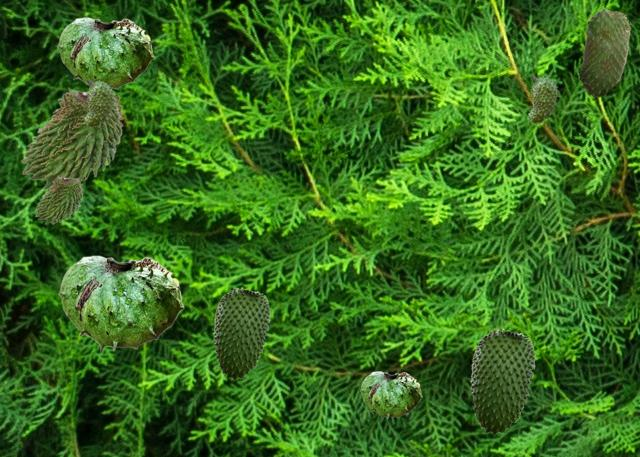guyabano: (58, 255, 183, 353), (20, 86, 123, 189), (57, 17, 153, 90), (470, 328, 534, 435), (213, 287, 269, 380), (578, 8, 630, 97), (360, 371, 421, 419), (34, 175, 82, 223), (527, 75, 559, 123), (83, 79, 115, 127)
